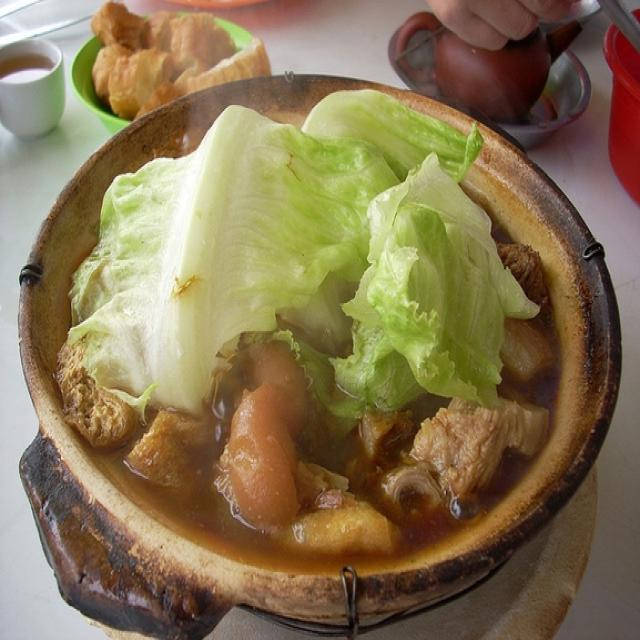汤锅炖物: (43, 68, 621, 599)
